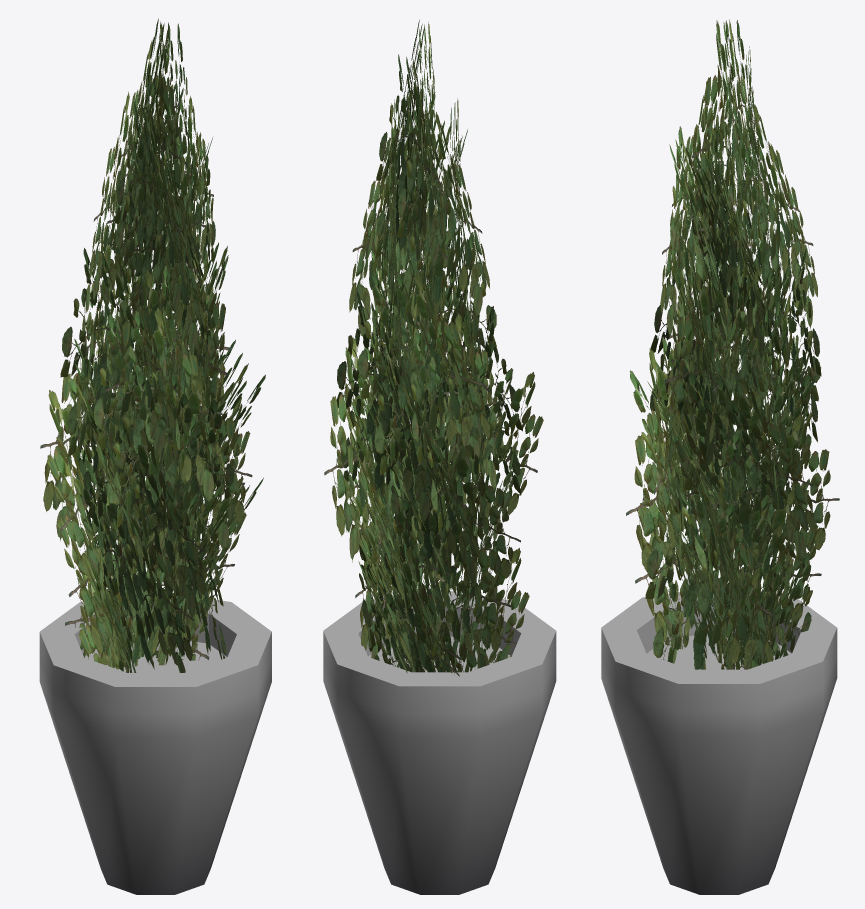
File: Prop_Plant_03.FBX
3 views of the same model, side by side, from view 1: azimuth 30°, elevation 25°; view 2: azimuth 150°, elevation 25°; view 3: azimuth 270°, elevation 25° (orthographic).
Parts seen in each view (by area): view 1: Prop_Plant_03; view 2: Prop_Plant_03; view 3: Prop_Plant_03.
Part boxes in pixels (left/top/right/bottom): Prop_Plant_03: left=39, top=18, right=271, bottom=894; Prop_Plant_03: left=323, top=19, right=556, bottom=894; Prop_Plant_03: left=601, top=19, right=839, bottom=894.
Size of the model in its own units: 0.7583 by 2.8 by 0.7369.
